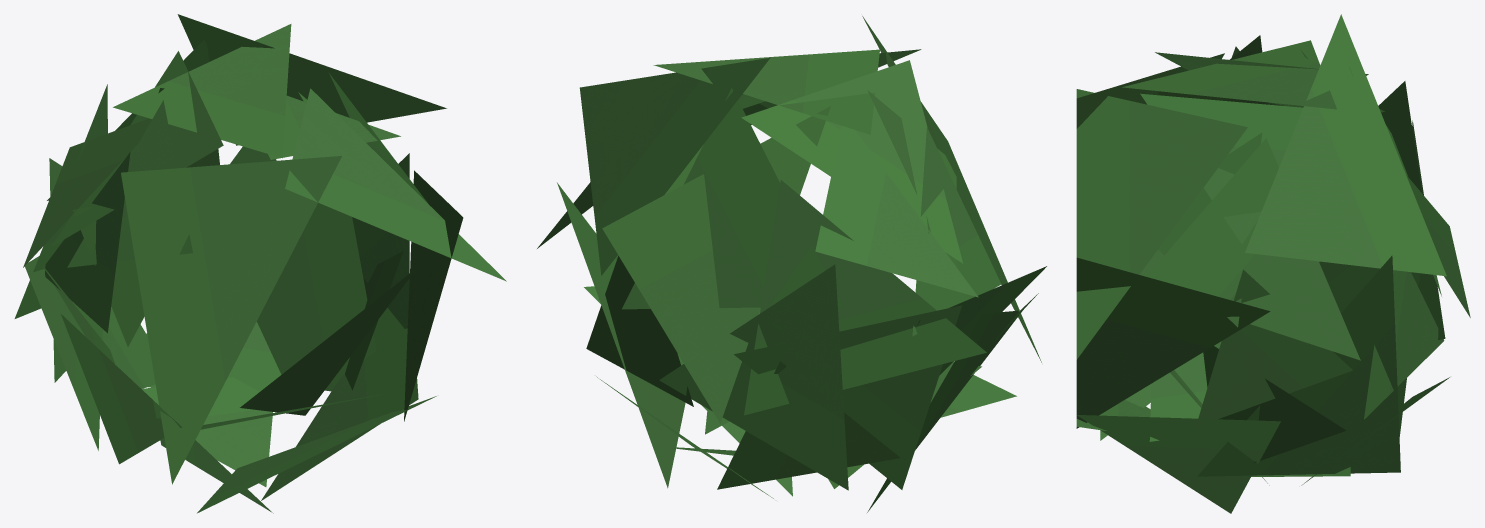
The model's file is VG_Bush.fbx.
3 renders of one model, left to right at view 1: azimuth 30°, elevation 25°; view 2: azimuth 150°, elevation 25°; view 3: azimuth 270°, elevation 25°, orthographic. The views are drawn at different scales.
Parts seen in each view (by area): view 1: VG_Bush LOD0; view 2: VG_Bush LOD0; view 3: VG_Bush LOD0.
Part boxes in pixels (<box>): VG_Bush LOD0: <box>14,14,506,513</box>; VG_Bush LOD0: <box>537,16,1046,512</box>; VG_Bush LOD0: <box>1076,14,1470,513</box>.
Size of what is drawn, in the model's own units: 2.05 by 2.2 by 1.63.
